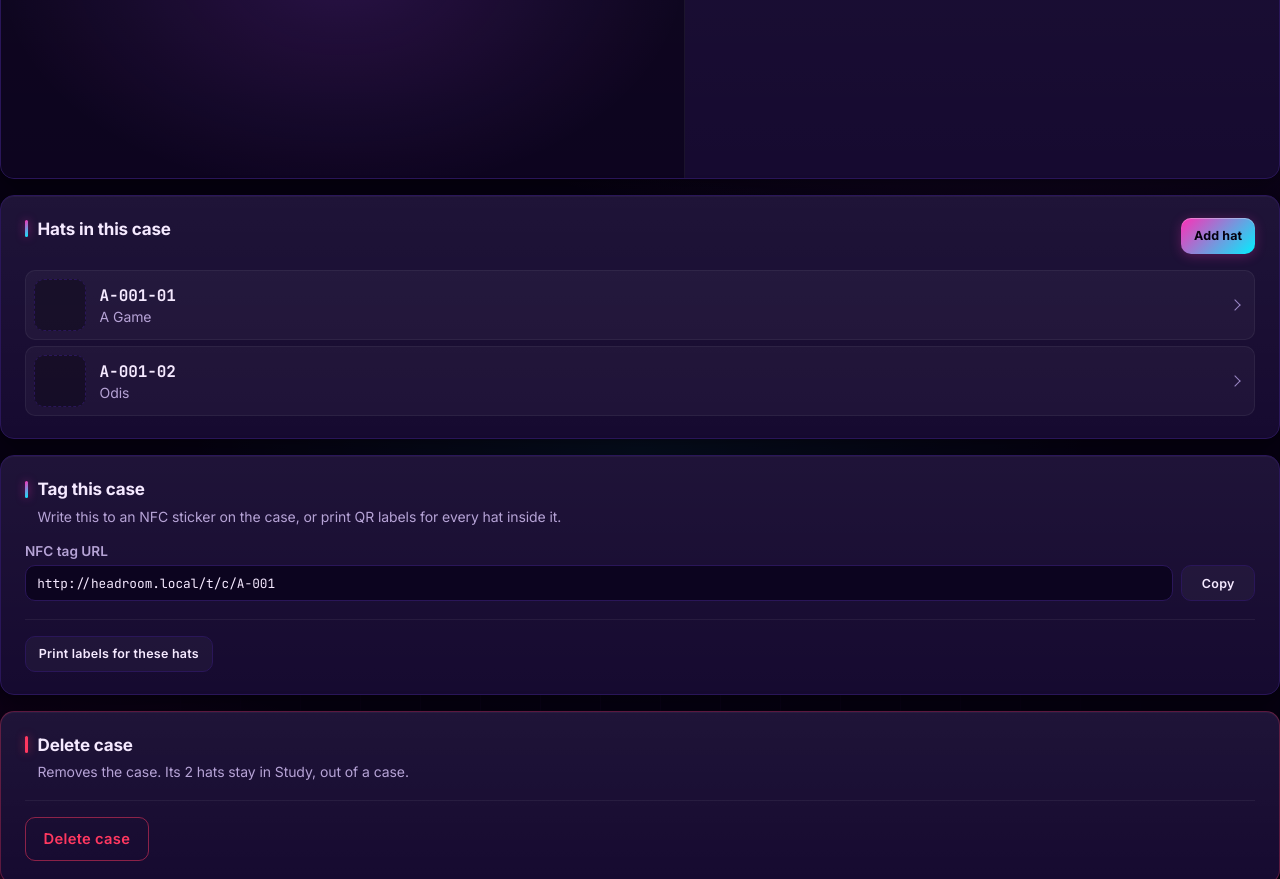
Scenario: CaseDetailPage — delete › keeps a failed delete on the page and says why
(page scrolled)
What coordinates should you click on to do the following:
click the button "Delete case"
I would click on:
 (87, 839)
Its box is [25,817,149,861].
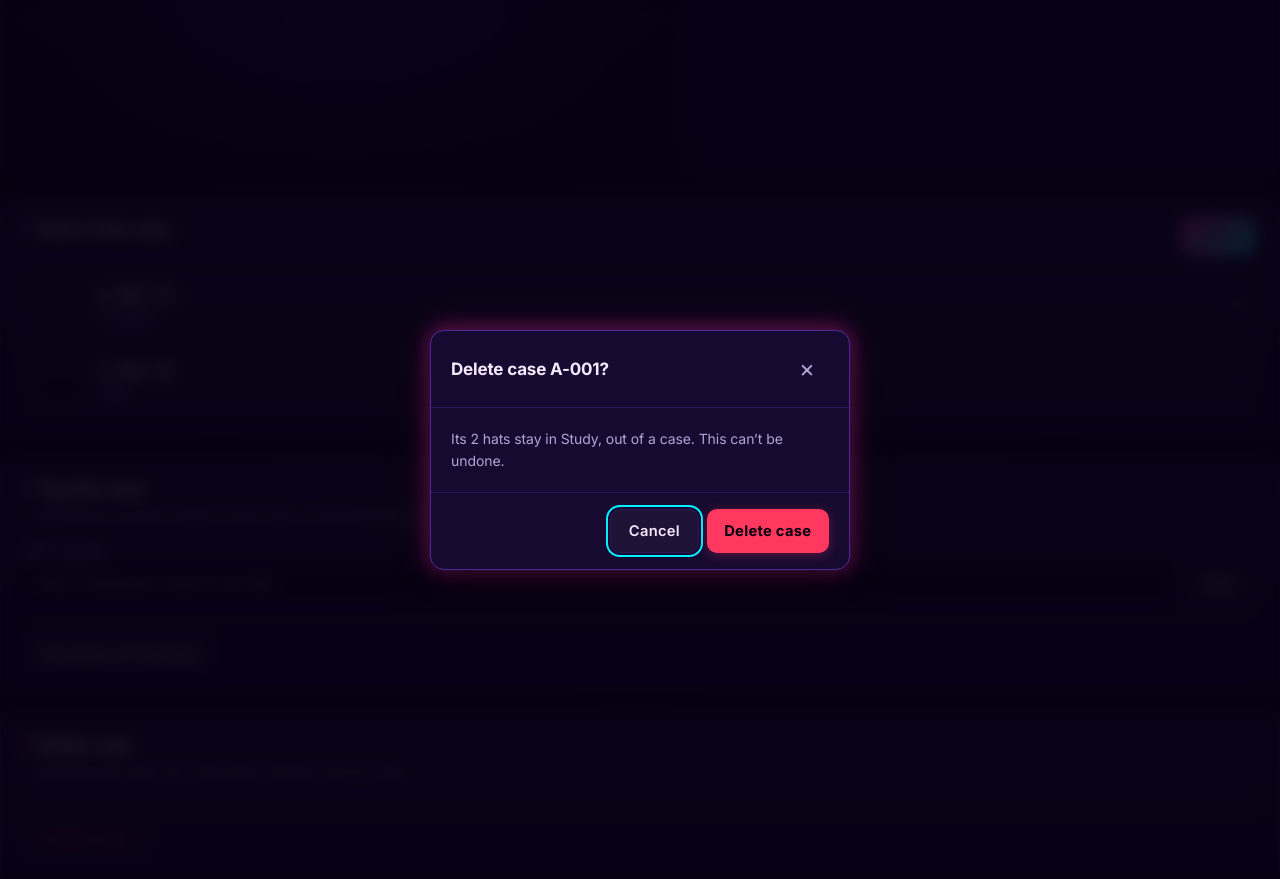
What coordinates should you click on to do the following:
click the button "Delete case"
I would click on:
 (768, 531)
Its box is [706,509,829,553].
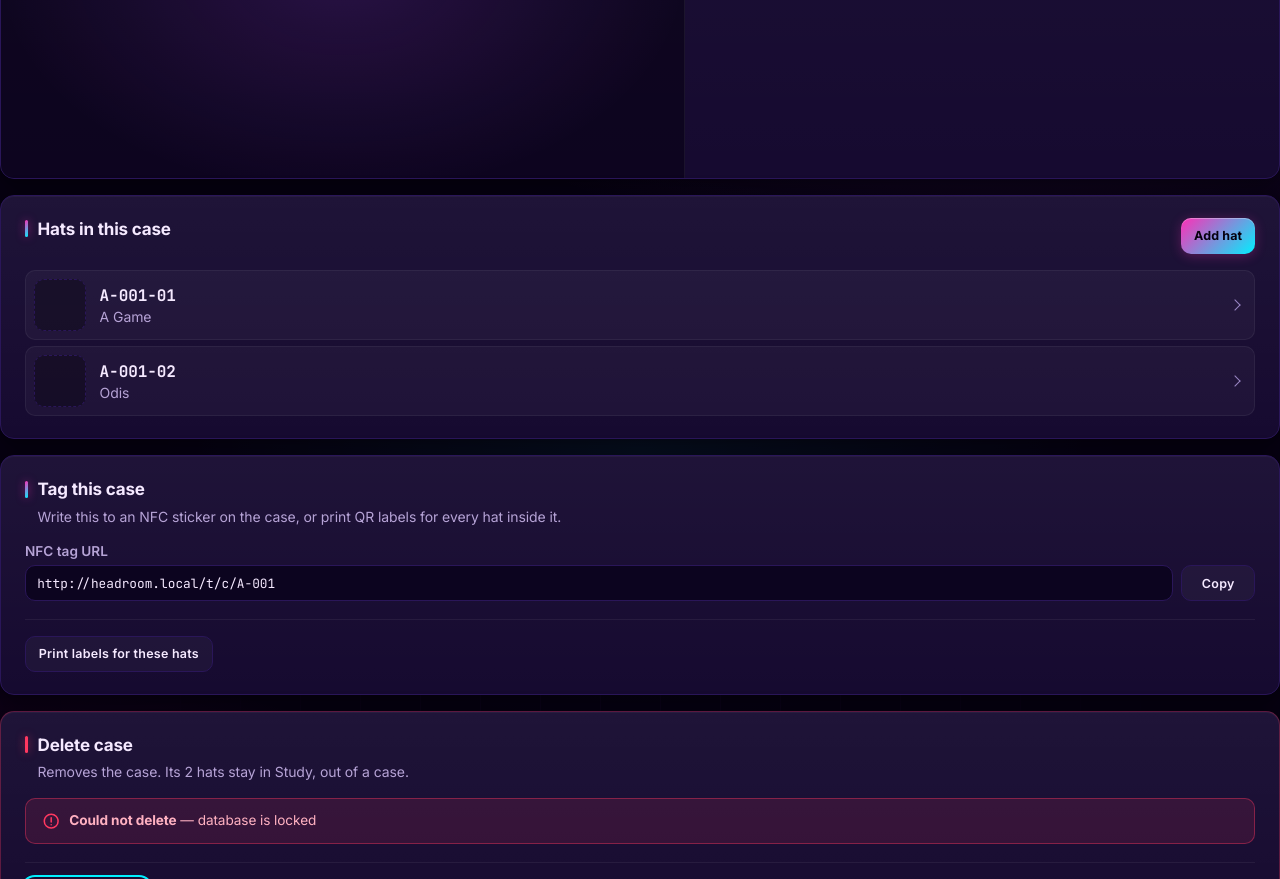
Now the message reads "Could not delete — database is locked", box [25,798,1255,844]
